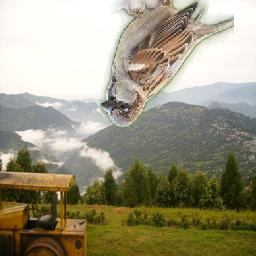Sparrow: (100, 1, 234, 128)
